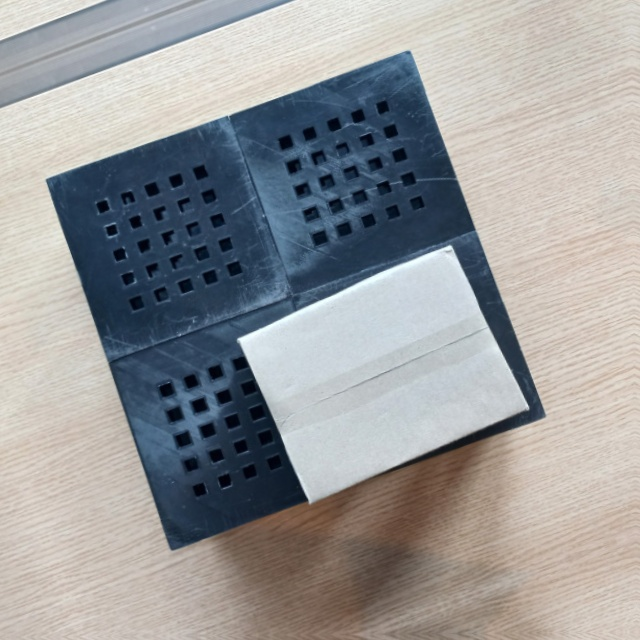box: (231, 243, 535, 512)
pallet: (32, 44, 554, 562)
